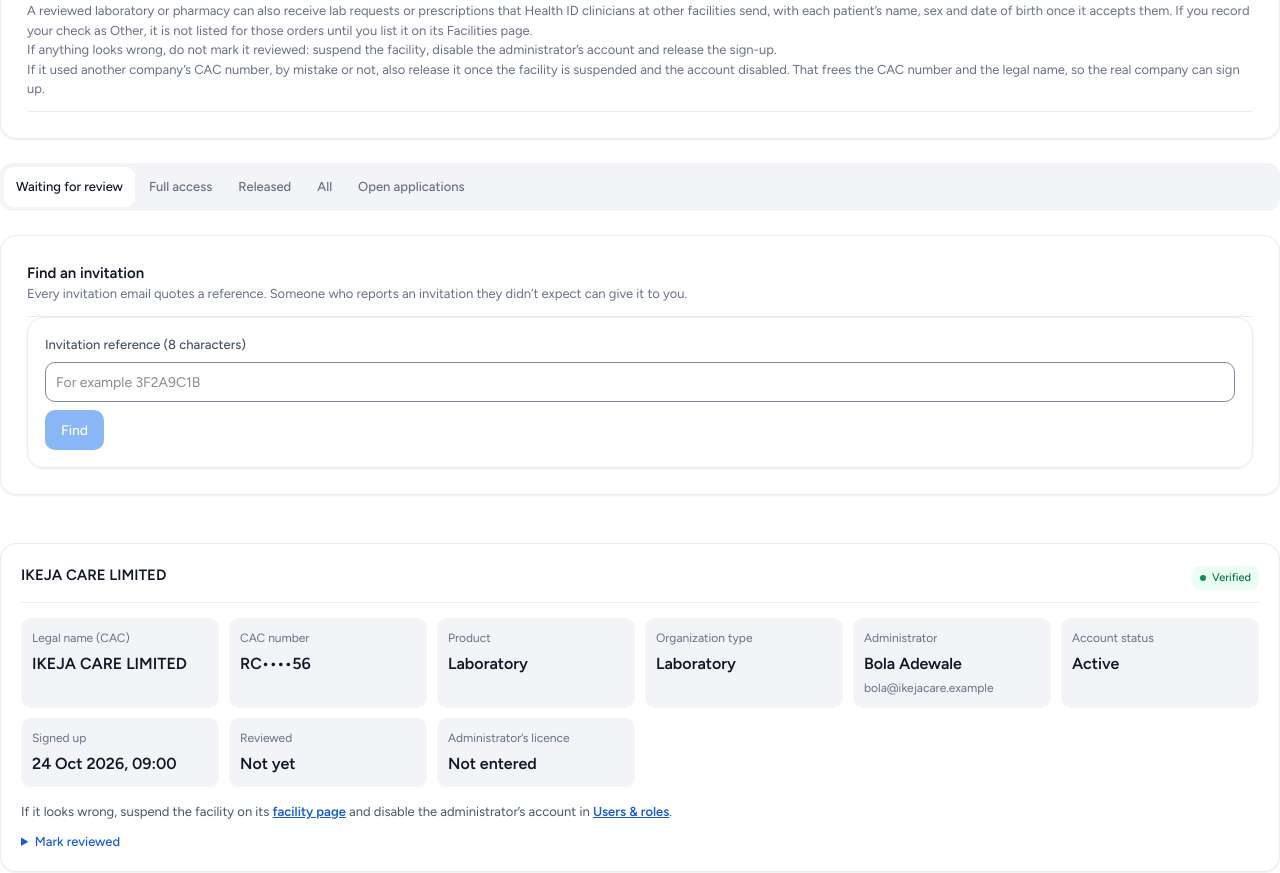
Test: new facility sign-ups › keeps any other refusal (SELF_SERVICE_REVIEW_ROLE_INVALID) on the card, without reading the list again
This screenshot has width=1280, height=873.
(page scrolled)
Click the heading "Mark reviewed" at (77, 841), box [35,834,120,848]
(page scrolled)
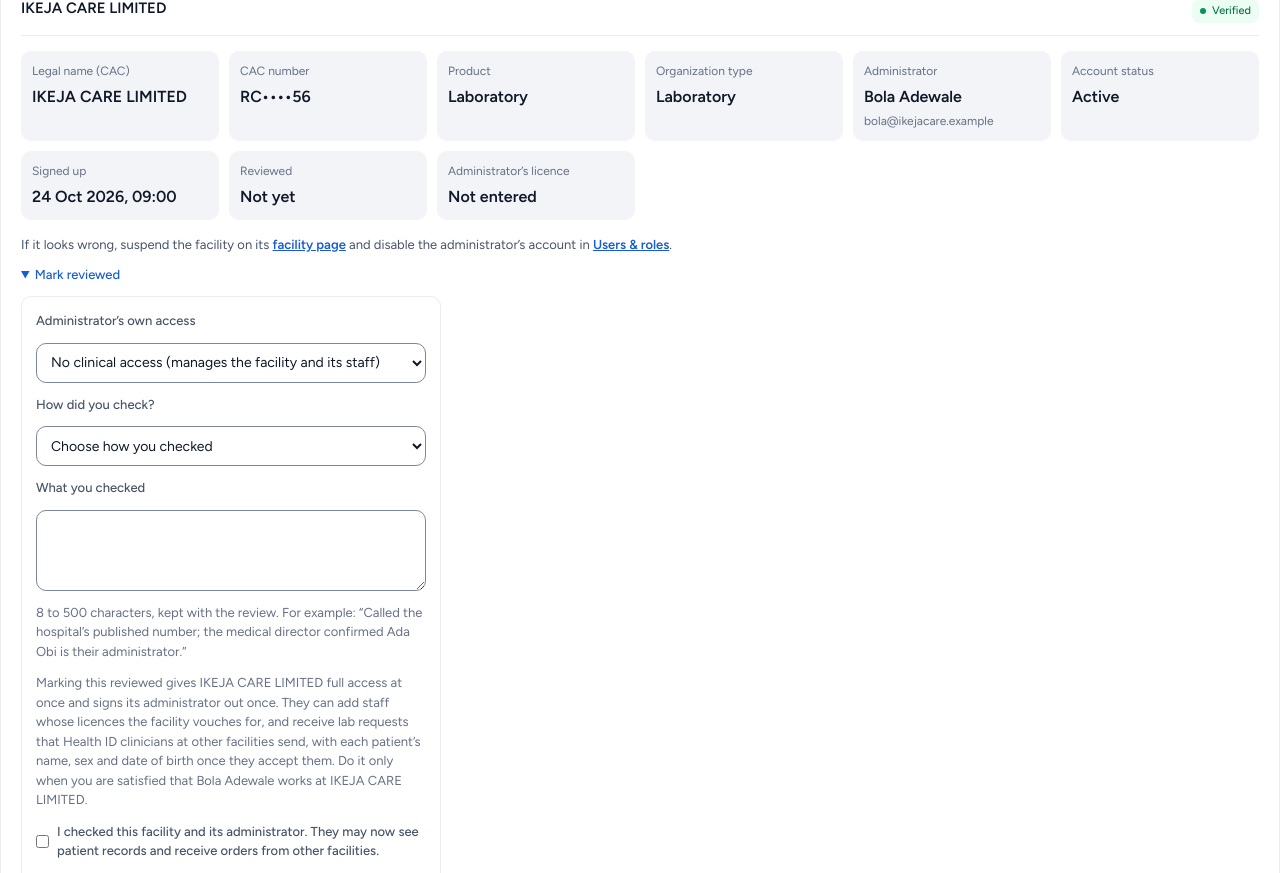
Select "I reached the company through contact details on its CAC record" in the dropdown labelled "How did you check?" at (231, 446), box [36,426,426,466]
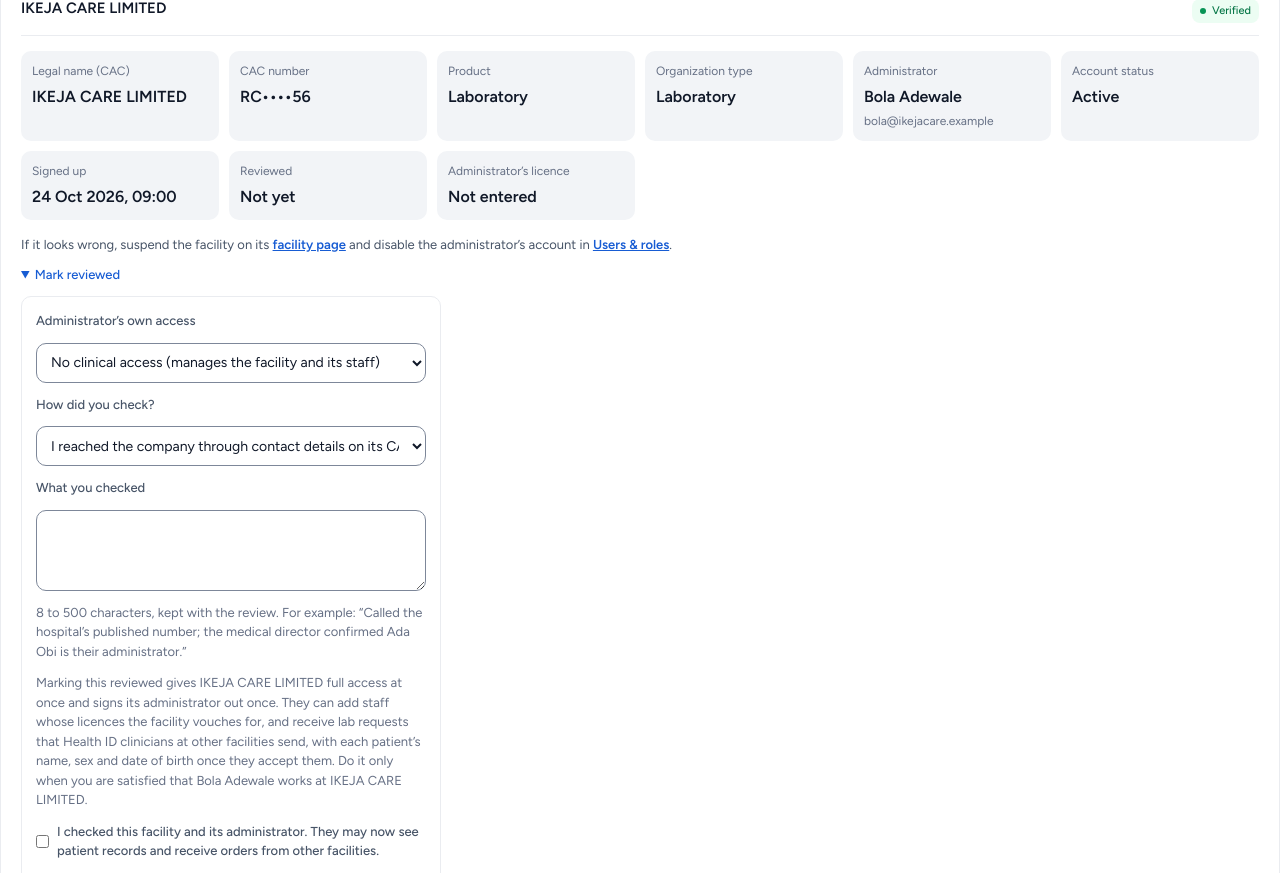
Type "Called the lab; confirmed." into the text box labelled "What you checked" at (231, 550), box [36,510,426,590]
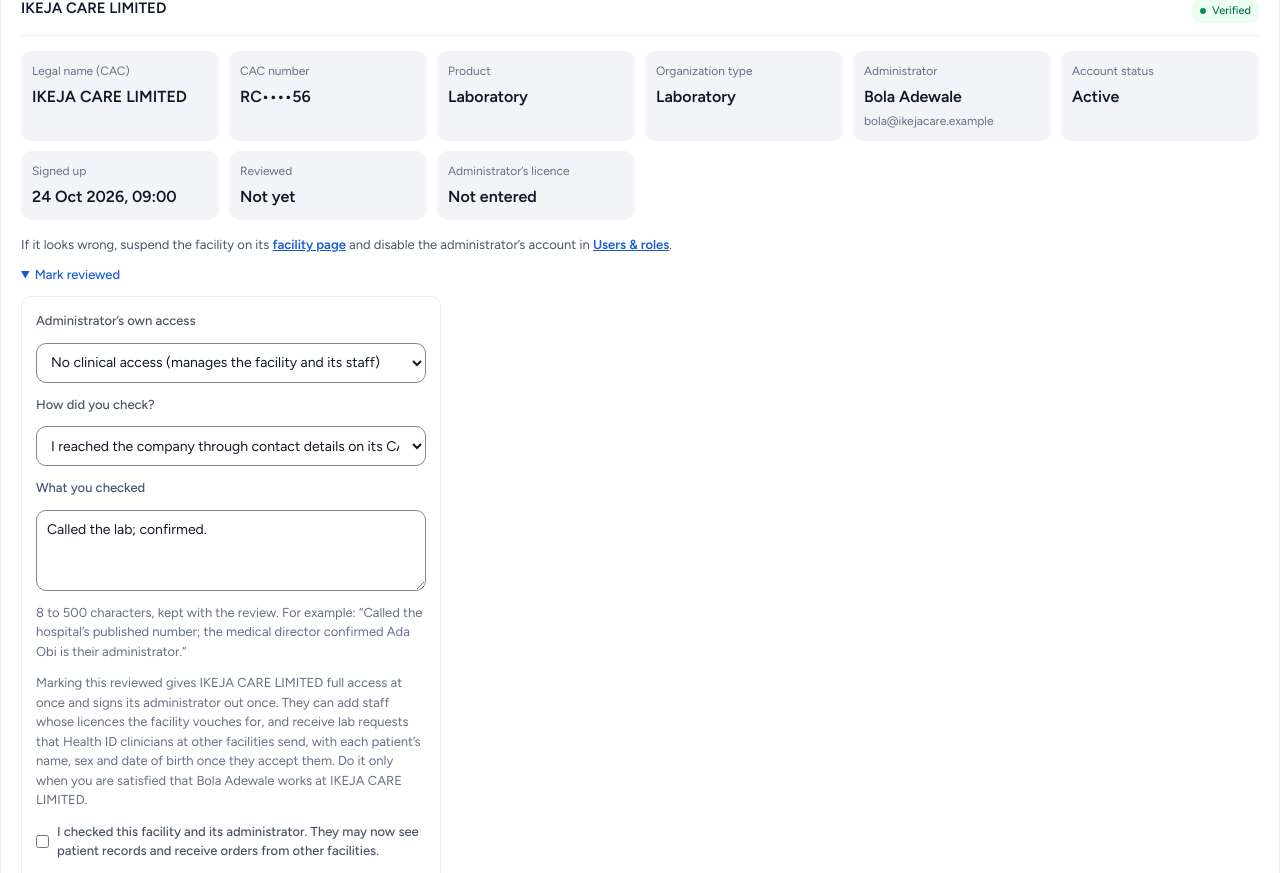
Click the checkbox labelled "I checked this facility and its administrator. They may now see patient records" at (42, 841), box [36,834,49,848]
(page scrolled)
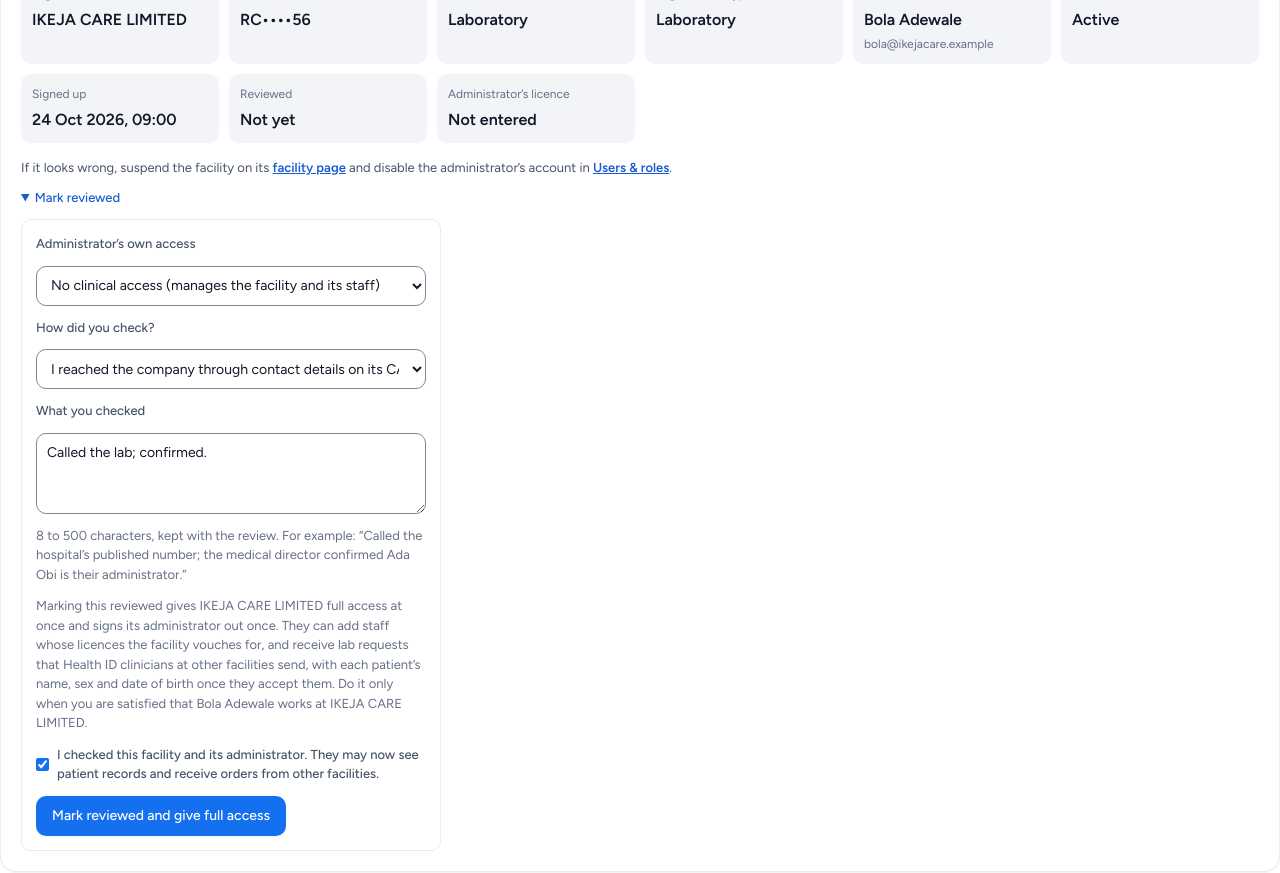
Click the button "Mark reviewed and give full access" at (161, 816), box [36,796,286,836]
(page scrolled)
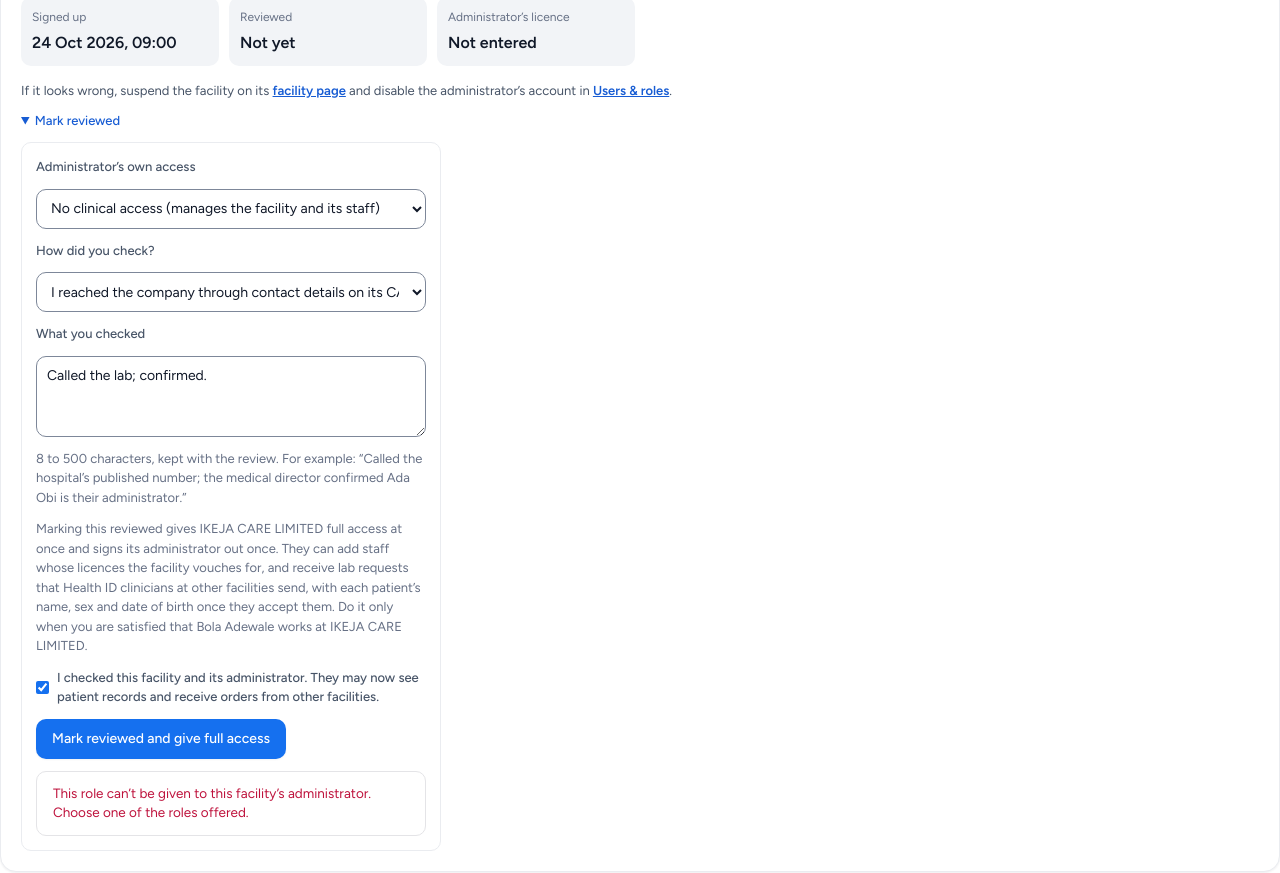
Check: the message shows "This role can’t be given to this facility’s administrator. Choose one of the roles offered.", box [53,784,371,820]
